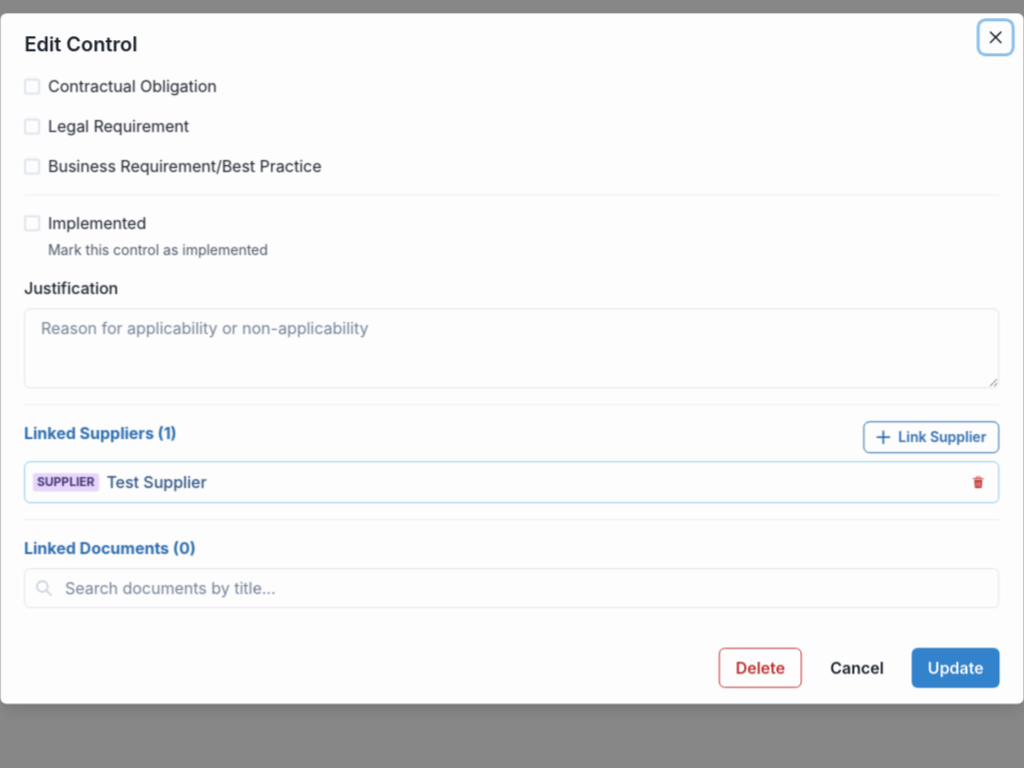
Test: ControlFormModal › Edge Cases › should filter out already linked suppliers from search results
(page scrolled)
Expected: the text "Linked Suppliers (1)" is shown, 24,421 -> 177,445
Step 1. Click the button "Link Supplier" → click(932, 437), box 864,421 -> 1000,453
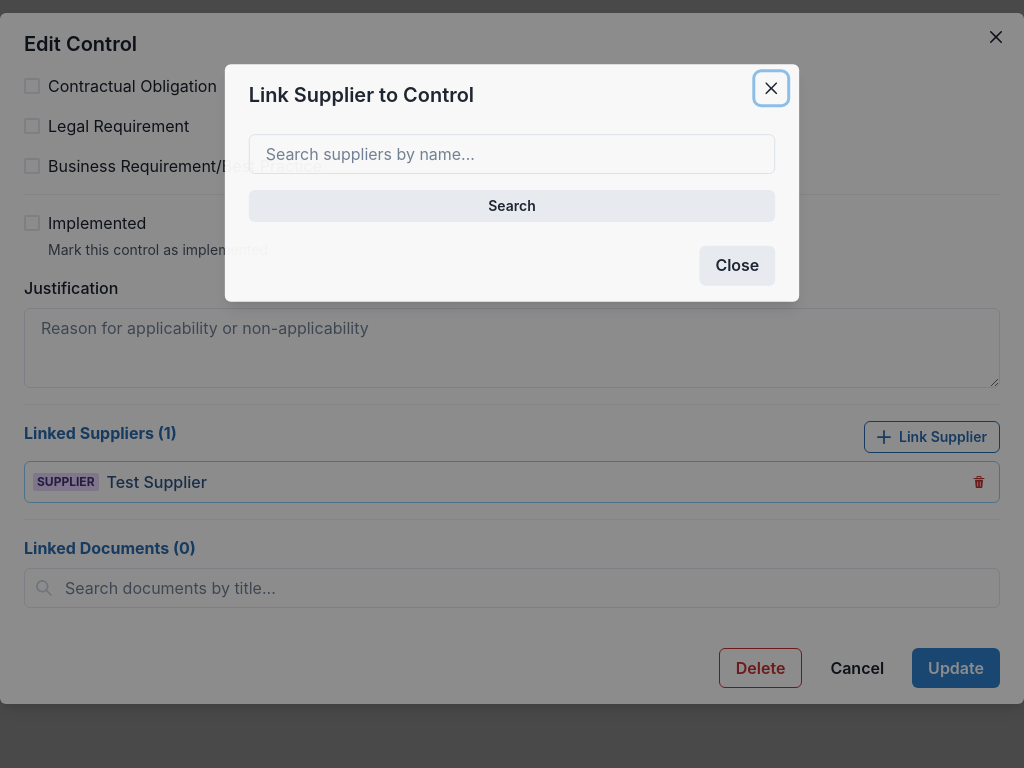
Expected: the text "Link Supplier to Control" is shown, 249,83 -> 474,107
Step 2. Type "Test" into the field with placeholder "Search suppliers by name..." → (512, 154), box 249,134 -> 775,174
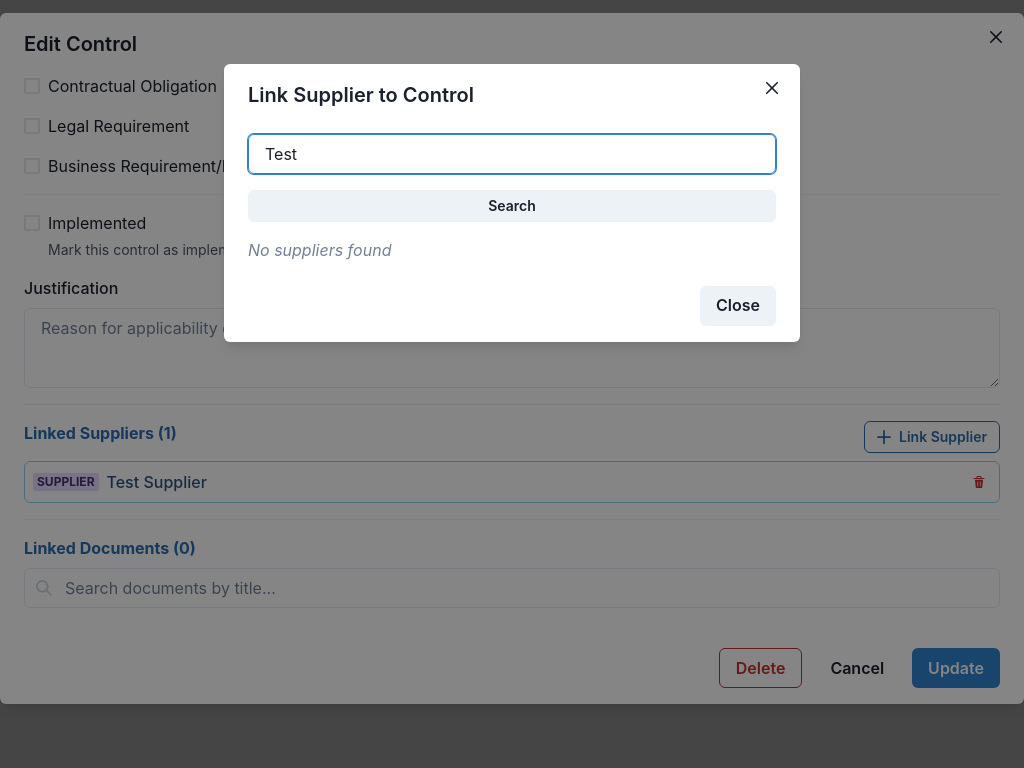
Step 3. Click the button "Search" → click(512, 206), box 248,190 -> 776,222
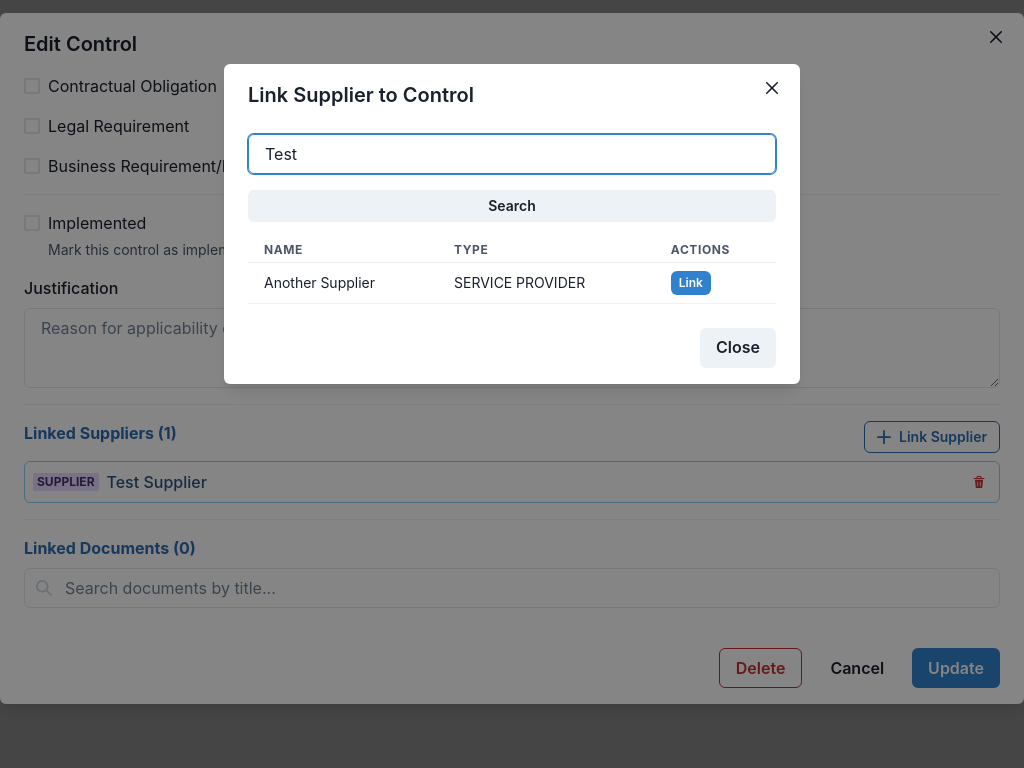
Expected: the text "Another Supplier" is shown, 248,262 -> 438,304
Expected: the table is shown, 248,238 -> 776,304
Expected: the table shows "Another Supplier", 264,274 -> 375,291
